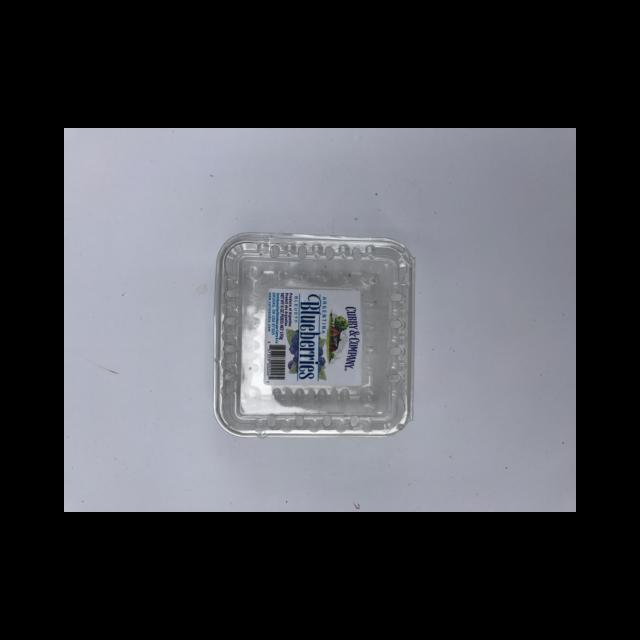plastic: (212, 231, 416, 437)
